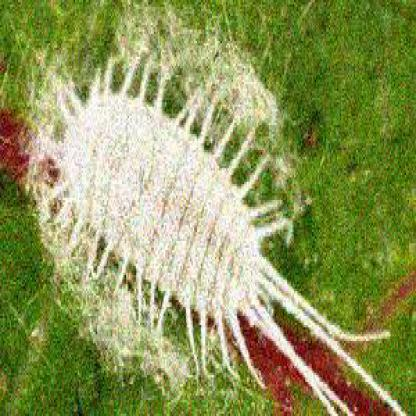mealy bug: (60, 88, 402, 407)
